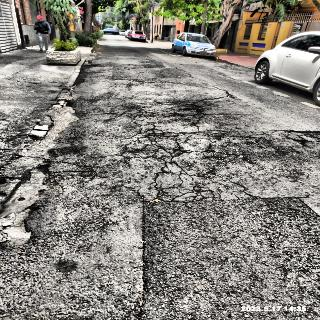alligator-crack: (108, 105, 251, 199)
crack: (273, 127, 320, 137)
